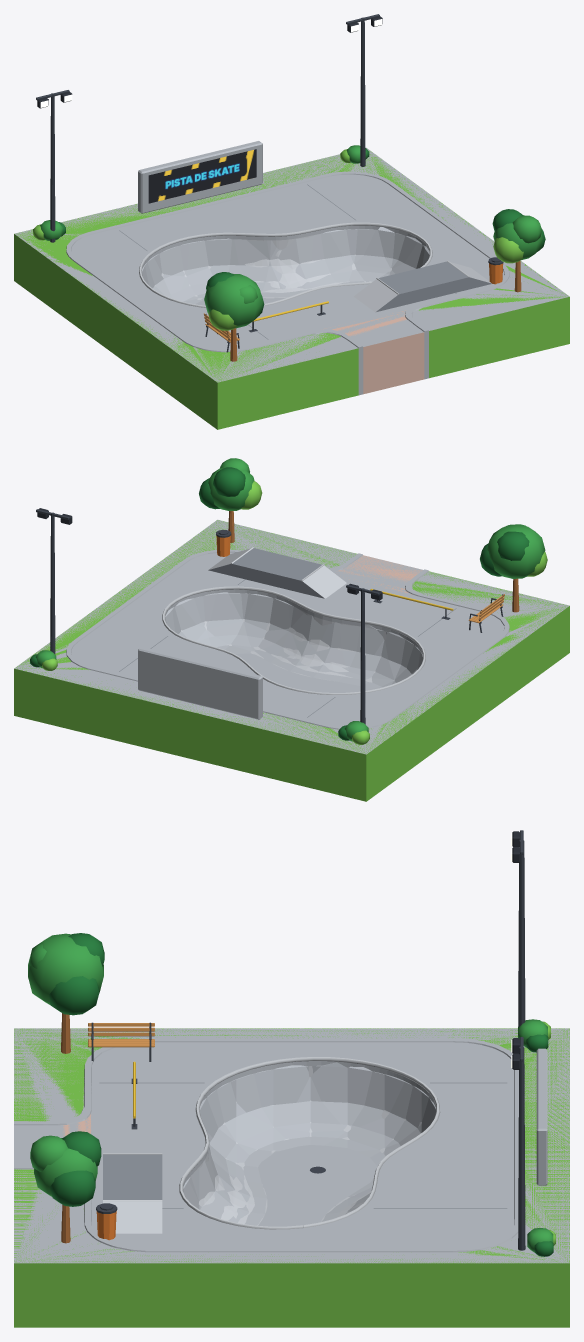
The model's file is pista_skate.glb.
3 views of the same model, one above another, from view 1: azimuth 30°, elevation 25°; view 2: azimuth 150°, elevation 25°; view 3: azimuth 270°, elevation 25° (orthographic). The views are drawn at different scales.
Parts seen in each view (by area): view 1: pista_skate, colisao_bowl; view 2: pista_skate, colisao_bowl; view 3: pista_skate, colisao_bowl.
Boxes of the visible parts, <box> form: pista_skate: <box>14,14,569,429</box>; colisao_bowl: <box>15,147,569,382</box>; pista_skate: <box>14,458,569,801</box>; colisao_bowl: <box>14,519,569,754</box>; pista_skate: <box>14,830,569,1327</box>; colisao_bowl: <box>14,1028,569,1263</box>.
Size of the model in its own units: 15 by 7.92 by 15.
3 materials, 2 textured.
